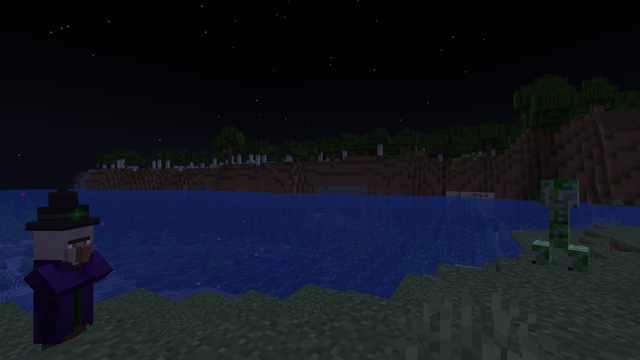creepers: (535, 175, 587, 272)
sorcieres: (31, 218, 96, 350)
